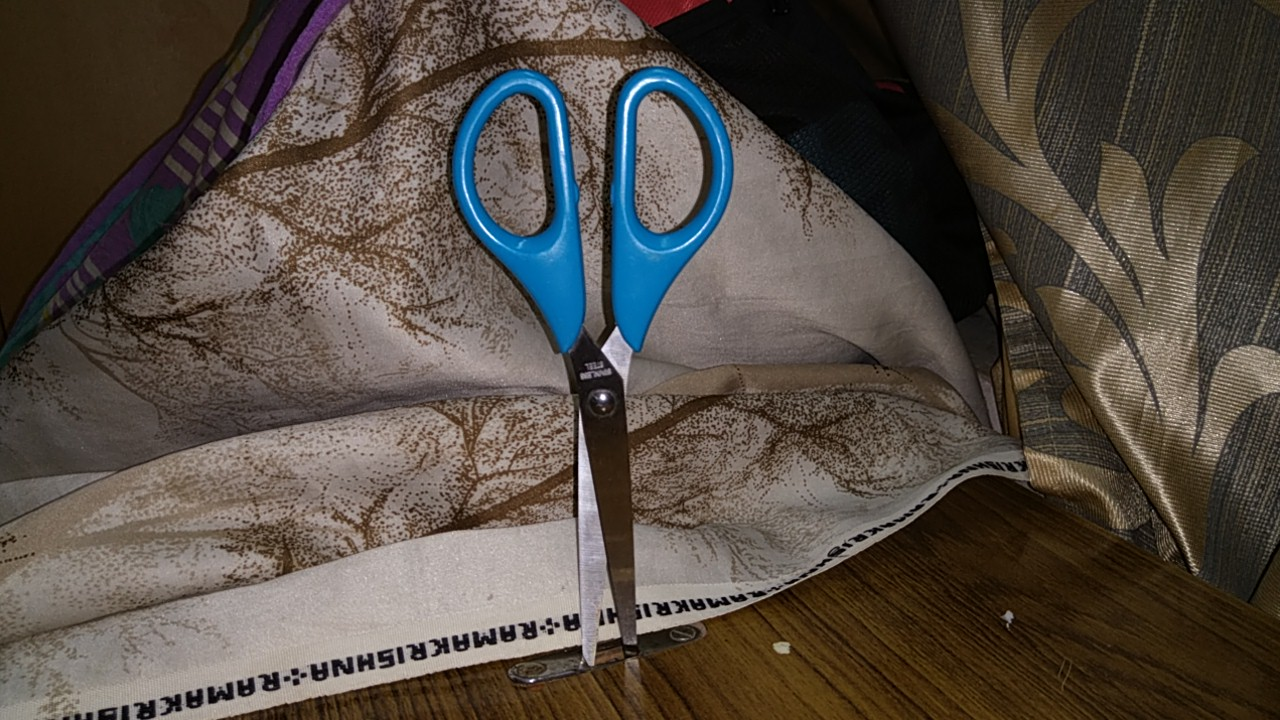scissor: (426, 61, 759, 682)
